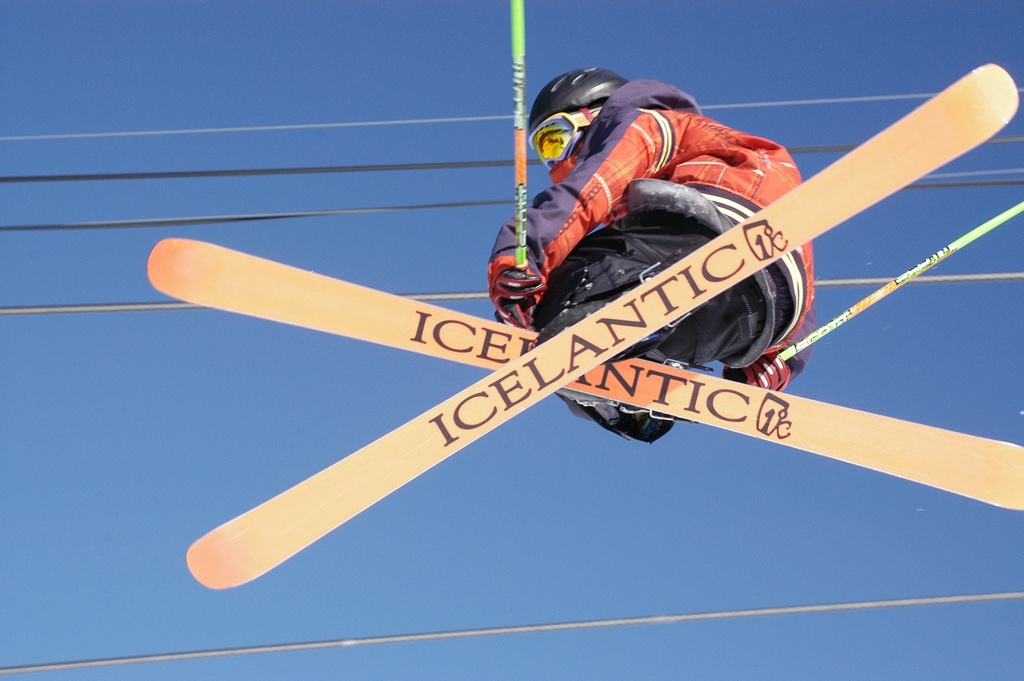Person: (487, 66, 818, 443)
